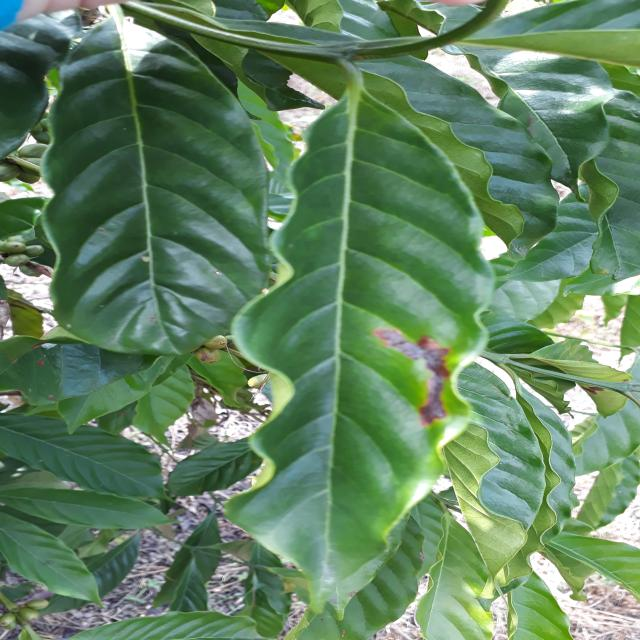Plaga-AranaRoja: (225, 63, 494, 607)
